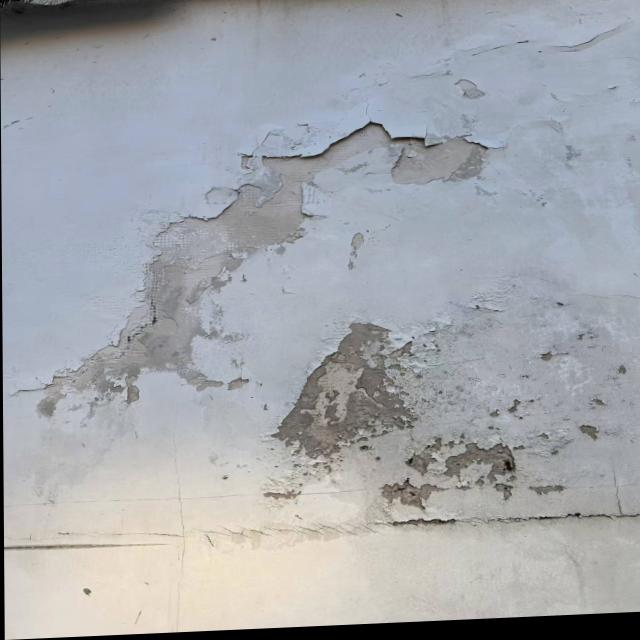crack: (202, 504, 640, 541), (11, 531, 172, 557)
hollowing: (518, 78, 635, 143), (545, 10, 633, 57)
spalling: (9, 107, 512, 428), (251, 257, 631, 520), (455, 77, 487, 102)
